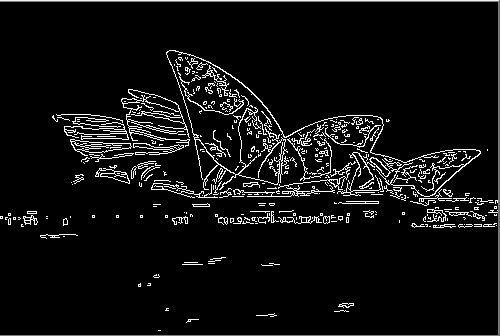opera house: (46, 31, 486, 206)
